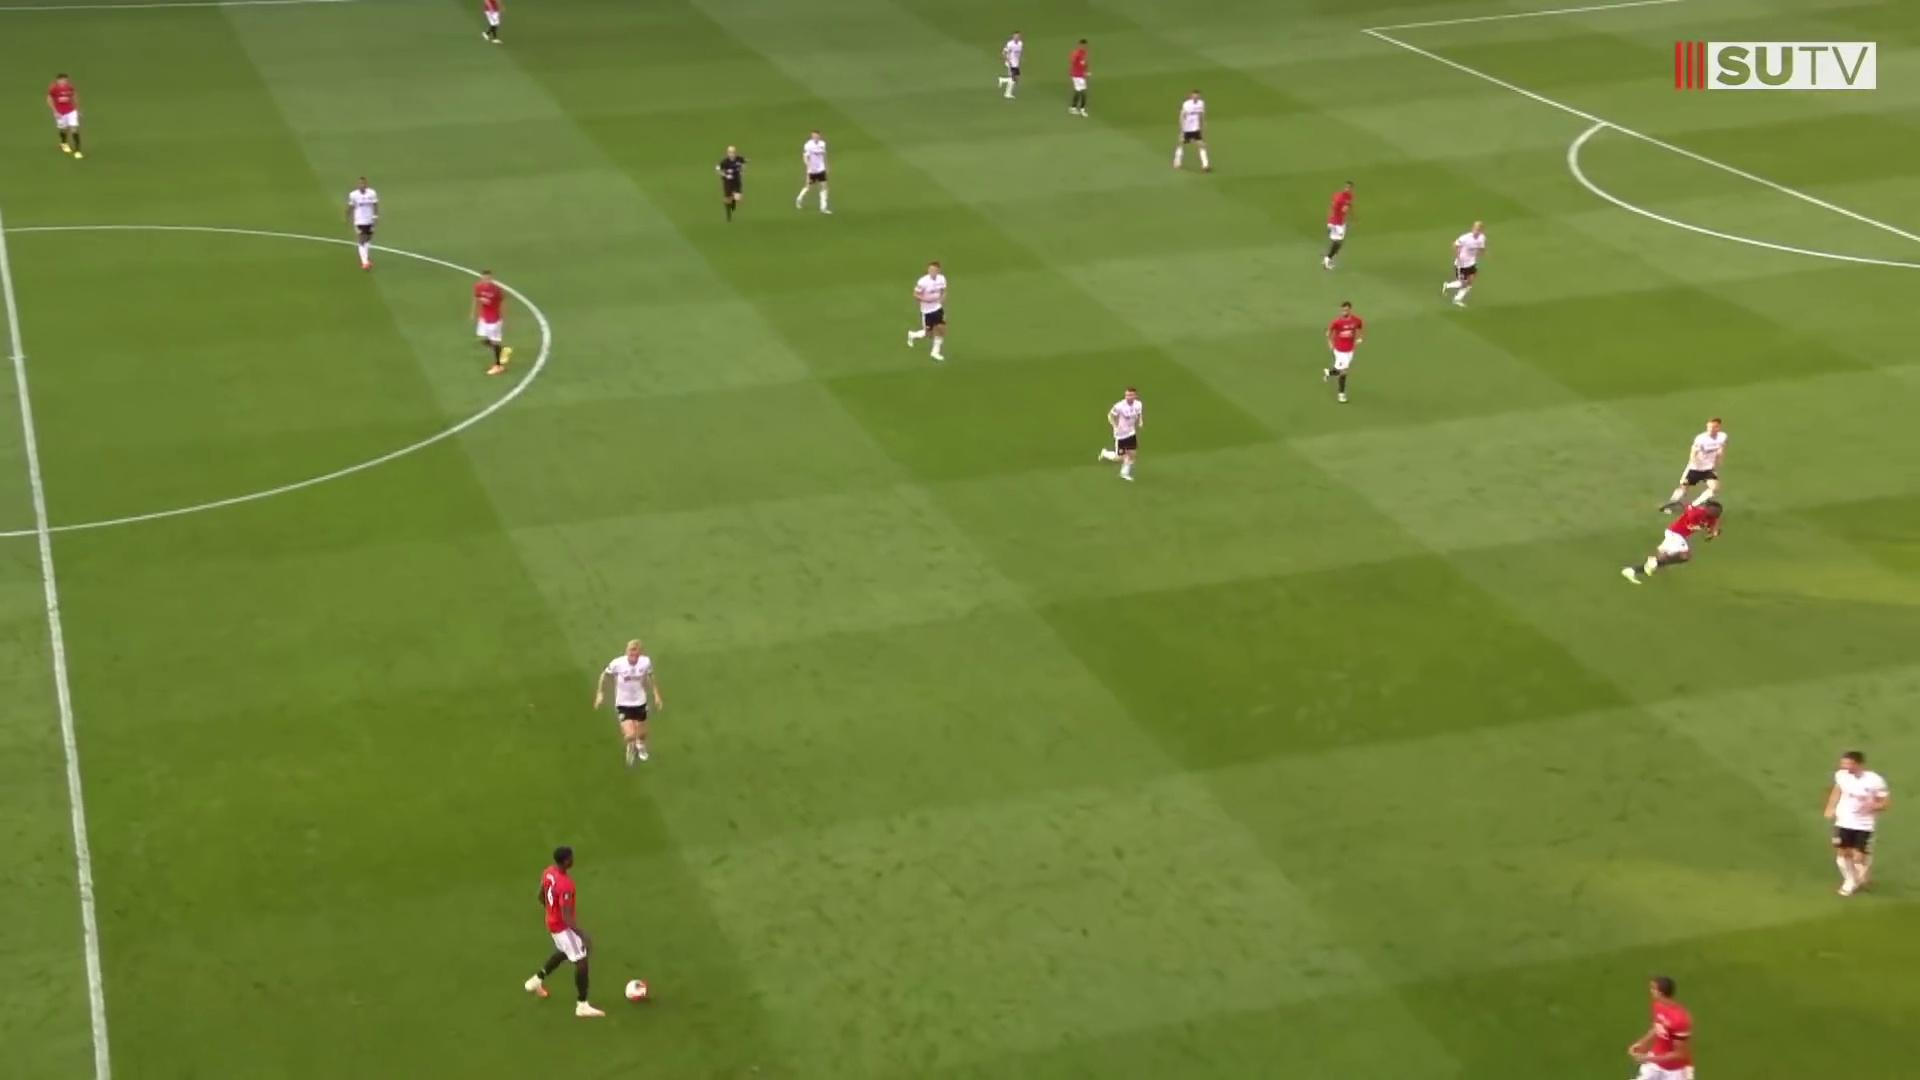ball: (621, 973, 652, 1008)
player: (521, 841, 613, 1025), (1817, 744, 1898, 902), (1611, 493, 1727, 590), (591, 633, 666, 767), (1623, 971, 1707, 1080), (1660, 415, 1732, 517), (1093, 381, 1155, 488), (904, 256, 955, 368), (464, 266, 514, 379), (1319, 296, 1369, 406), (1438, 216, 1493, 312), (1171, 85, 1218, 176), (792, 124, 835, 220), (43, 67, 86, 163), (344, 172, 384, 275), (1318, 177, 1360, 274), (1067, 37, 1096, 122), (996, 27, 1027, 105), (475, 0, 513, 50)
referee: (712, 140, 756, 229)
